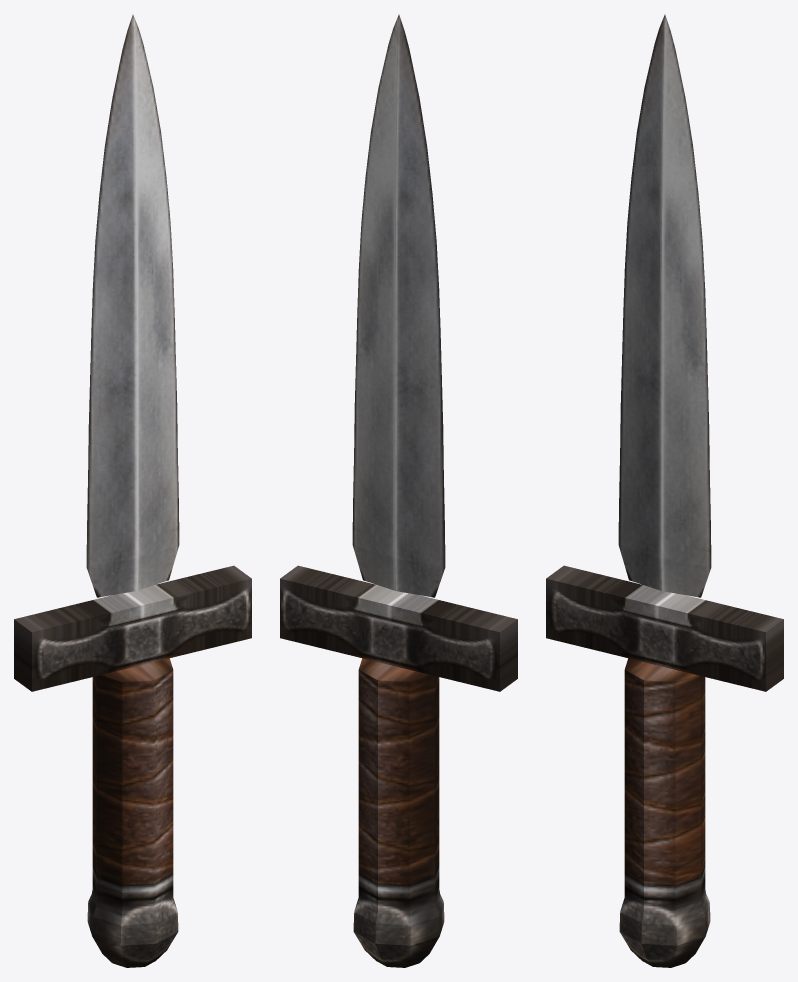
Rendered from mm7_m410_dagger.glb.
3 renders of one model, left to right at view 1: azimuth 30°, elevation 25°; view 2: azimuth 150°, elevation 25°; view 3: azimuth 330°, elevation 25°, orthographic.
Visible parts, largest first — view 1: Dagger; view 2: Dagger; view 3: Dagger.
Part boxes in pixels (x1,y1,x2,y2): Dagger: [14, 14, 251, 967]; Dagger: [280, 14, 517, 967]; Dagger: [546, 14, 783, 967].
Size of the model in its own units: 0.0852 by 0.35 by 0.0316.
1 material, 1 textured.
